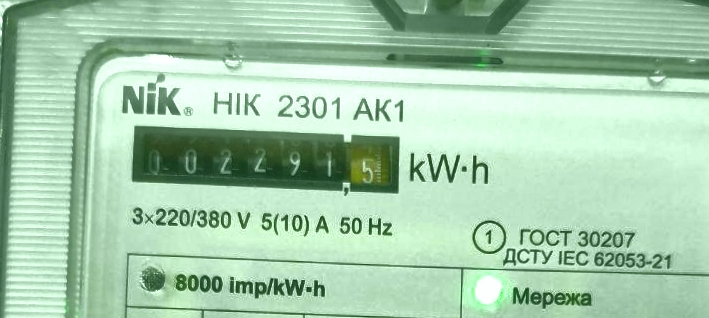0: (143, 145, 162, 174), (181, 146, 198, 175)
1: (320, 147, 335, 181)
2: (216, 146, 233, 175), (251, 145, 266, 174)
5: (358, 154, 375, 185)
9: (285, 147, 302, 178)
screen: (126, 120, 404, 200)
